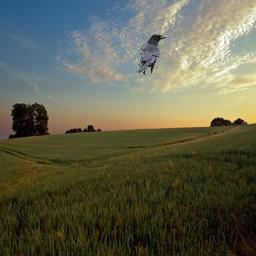Crow: (136, 34, 167, 78)
